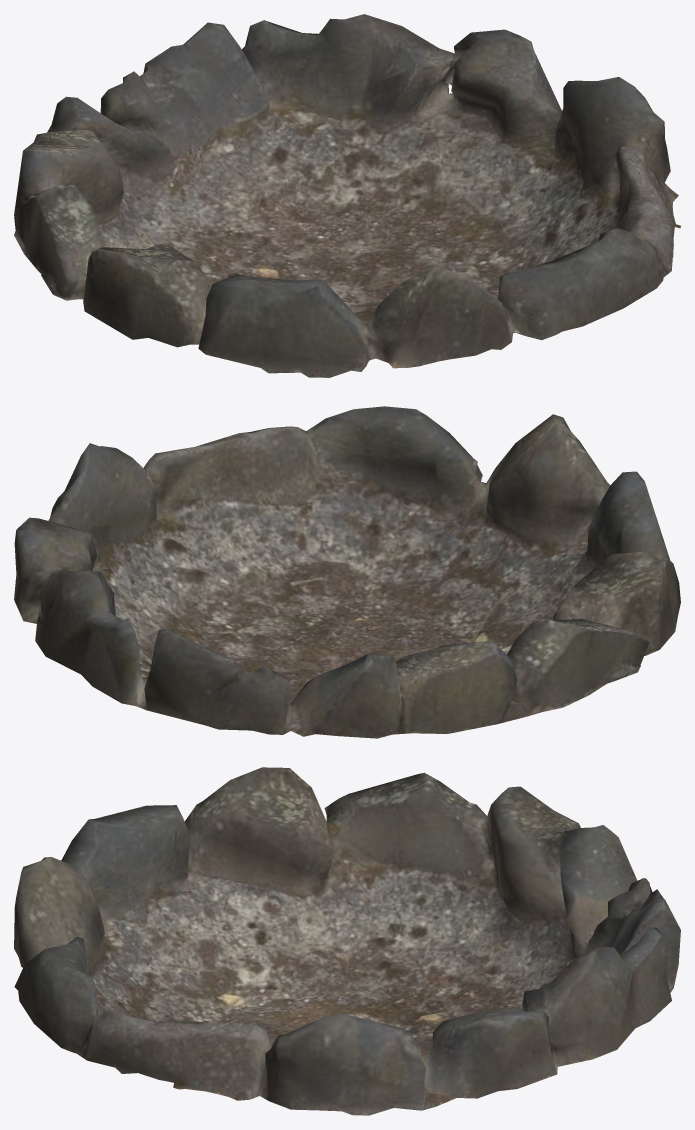
The model's file is lg-p-firepit.glb.
3 renders of one model, top to bottom at view 1: azimuth 30°, elevation 25°; view 2: azimuth 150°, elevation 25°; view 3: azimuth 270°, elevation 25°, orthographic.
Visible parts, largest first — view 1: stone_fire_pit; view 2: stone_fire_pit; view 3: stone_fire_pit.
Boxes of the visible parts, box(x1,y1,x2,y2) form: stone_fire_pit: box(14, 14, 680, 377); stone_fire_pit: box(14, 406, 680, 738); stone_fire_pit: box(14, 767, 680, 1115).
Size of the model in its own units: 1.45 by 0.3883 by 1.43.
Materials: 1 (1 with a texture image).
